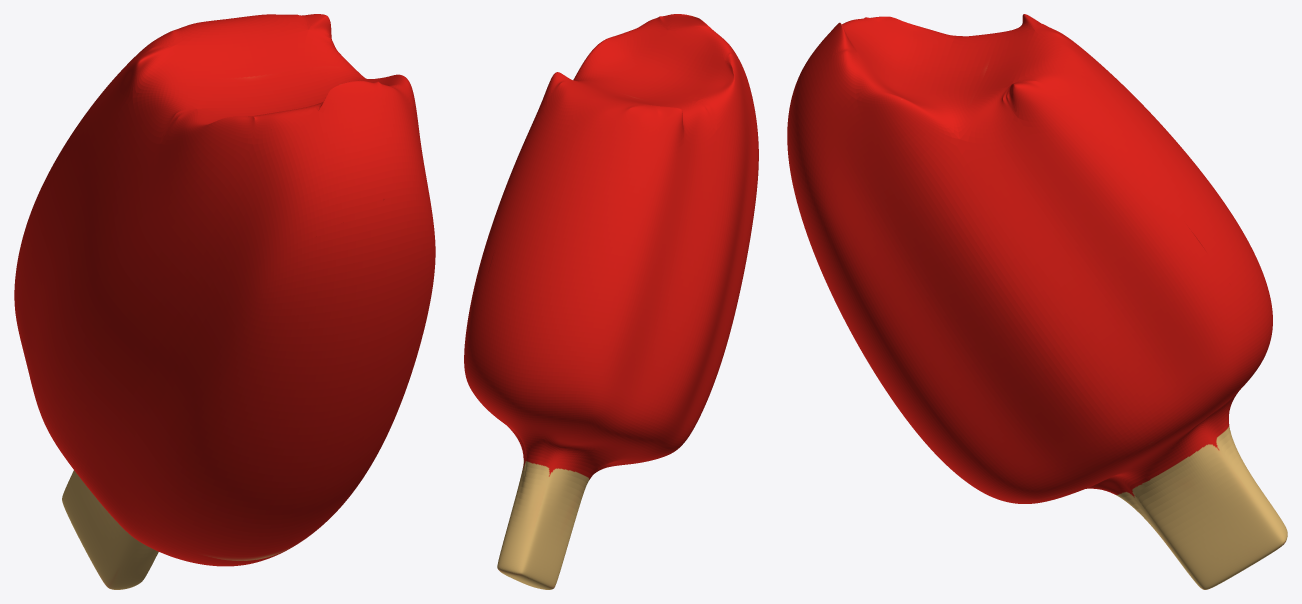
File: Popsicle.fbx
3 views of the same model, side by side, from view 1: azimuth 30°, elevation 25°; view 2: azimuth 150°, elevation 25°; view 3: azimuth 270°, elevation 25° (orthographic). The views are drawn at different scales.
Parts seen in each view (by area): view 1: Cube.012; view 2: Cube.012; view 3: Cube.012.
Part boxes in pixels (<box>): Cube.012: <box>14,14,435,589</box>; Cube.012: <box>464,14,758,589</box>; Cube.012: <box>787,14,1287,589</box>.
Size of the model in its own units: 25.29 by 55.33 by 44.72.
